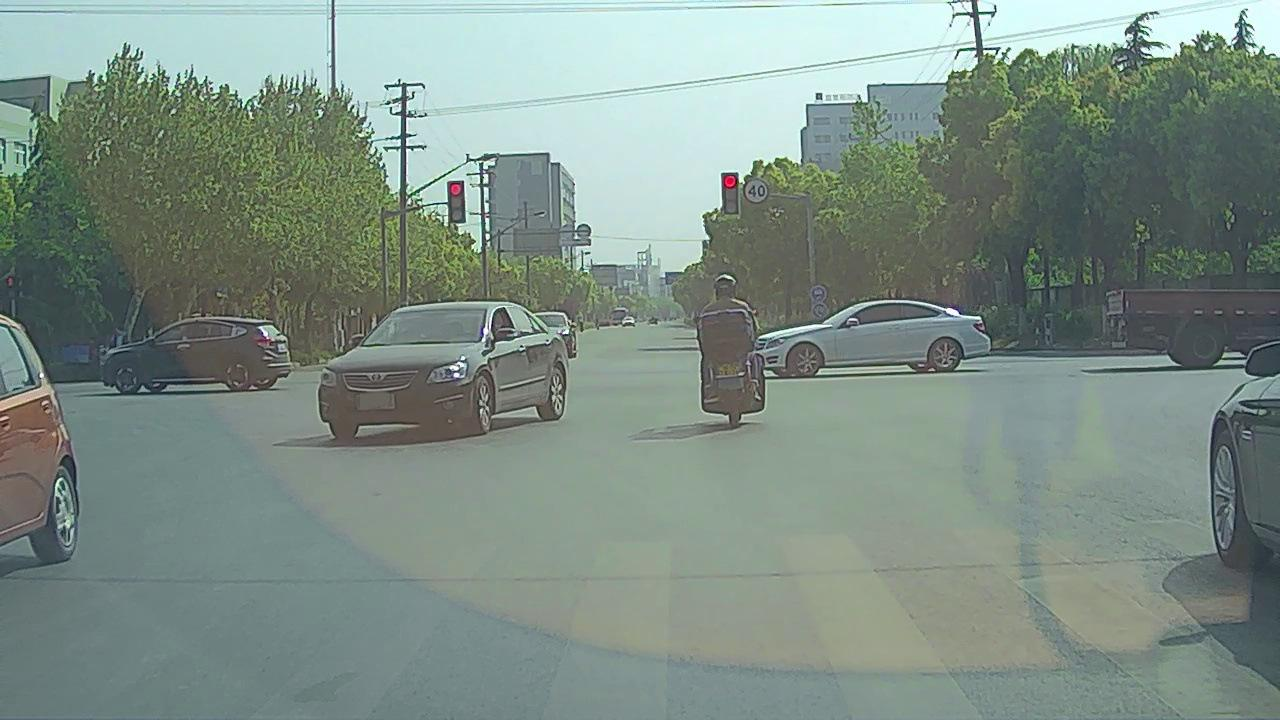traffic_light: (447, 178, 465, 224), (722, 173, 740, 216)
